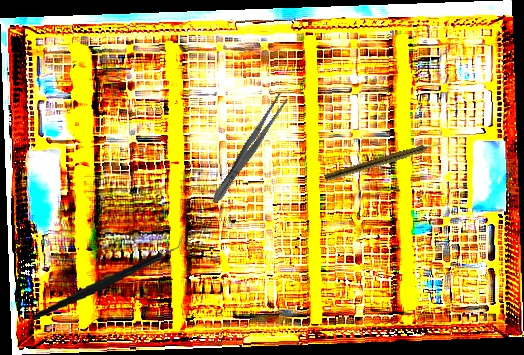Chopper: (24, 233, 194, 321)
Dressing Forceps: (207, 90, 291, 208)
Handpiece: (324, 139, 440, 185)
